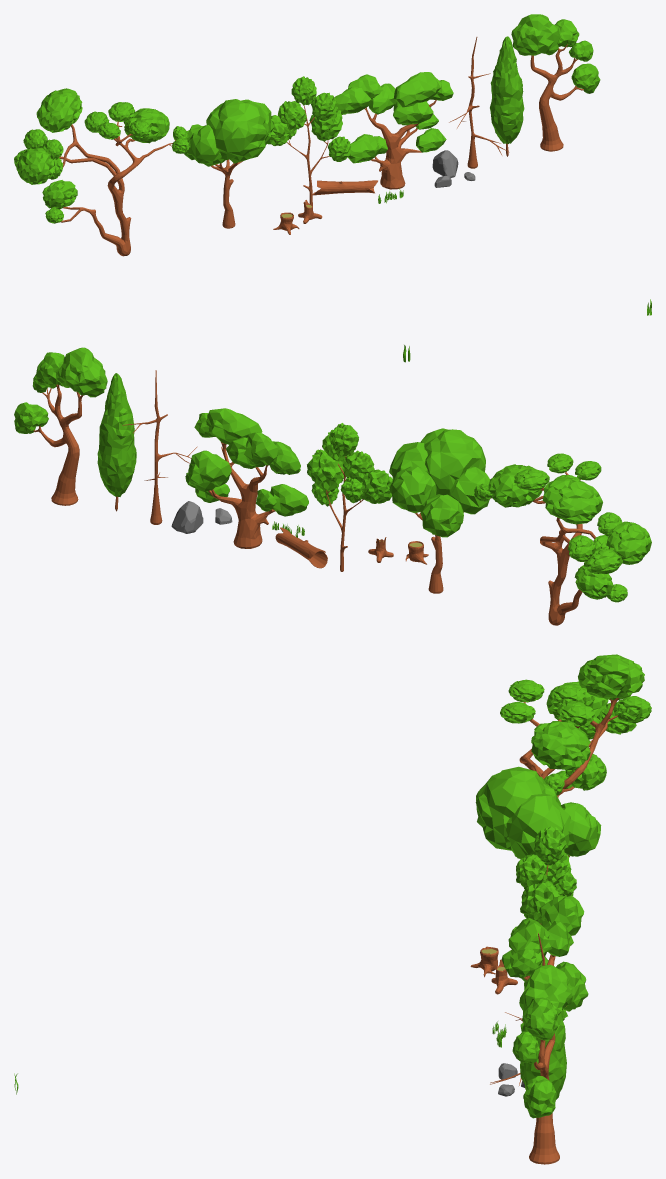
The model's file is uploads_files_3924131_tree.fbx.
The picture shows the model from 3 angles, top to bottom: view 1: azimuth 30°, elevation 25°; view 2: azimuth 150°, elevation 25°; view 3: azimuth 270°, elevation 25°; orthographic projection. The views are drawn at different scales.
Visible parts, largest first — view 1: Pine, tree, simple tree, Pine 2, apple tree, cypress, Log, Spruce, stone 1; view 2: Pine, tree, simple tree, Pine 2, apple tree, cypress, Spruce, Log, stone 1; view 3: Pine, simple tree, Pine 2, tree, apple tree, cypress.
Boxes of the visible parts, box(x1,y1,x2,y2) form: Pine: box(14, 88, 189, 256); tree: box(334, 72, 453, 189); simple tree: box(184, 99, 274, 228); Pine 2: box(511, 14, 600, 151); apple tree: box(267, 76, 350, 205); cypress: box(490, 36, 524, 156); Log: box(312, 180, 377, 195); Spruce: box(449, 37, 509, 168); stone 1: box(432, 150, 458, 177); Pine: box(474, 453, 651, 625); tree: box(185, 408, 308, 548); simple tree: box(389, 428, 489, 593); Pine 2: box(14, 347, 107, 505); apple tree: box(307, 423, 392, 571); cypress: box(97, 373, 136, 511); Spruce: box(122, 370, 197, 524); Log: box(275, 527, 327, 568); stone 1: box(171, 501, 203, 533); Pine: box(500, 654, 651, 797); simple tree: box(475, 766, 601, 924); Pine 2: box(512, 964, 572, 1164); tree: box(501, 895, 588, 1031); apple tree: box(510, 826, 576, 936); cypress: box(520, 1013, 566, 1099).
Size of the model in its own units: 1927 by 499 by 1412.
